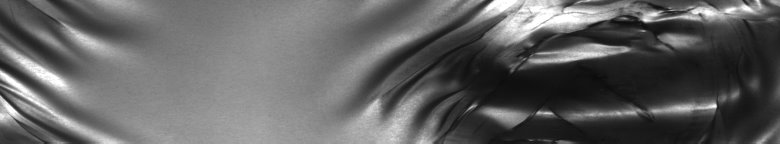ke: (372, 4, 776, 136)
